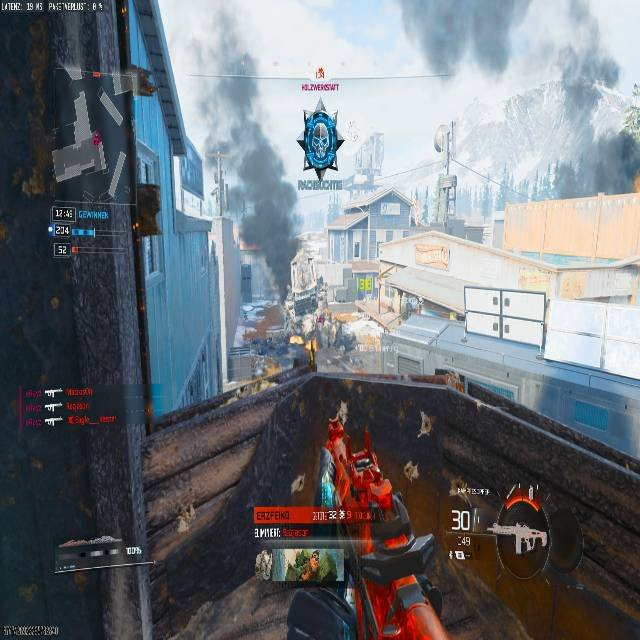player: (296, 111, 342, 180), (314, 274, 329, 321)
